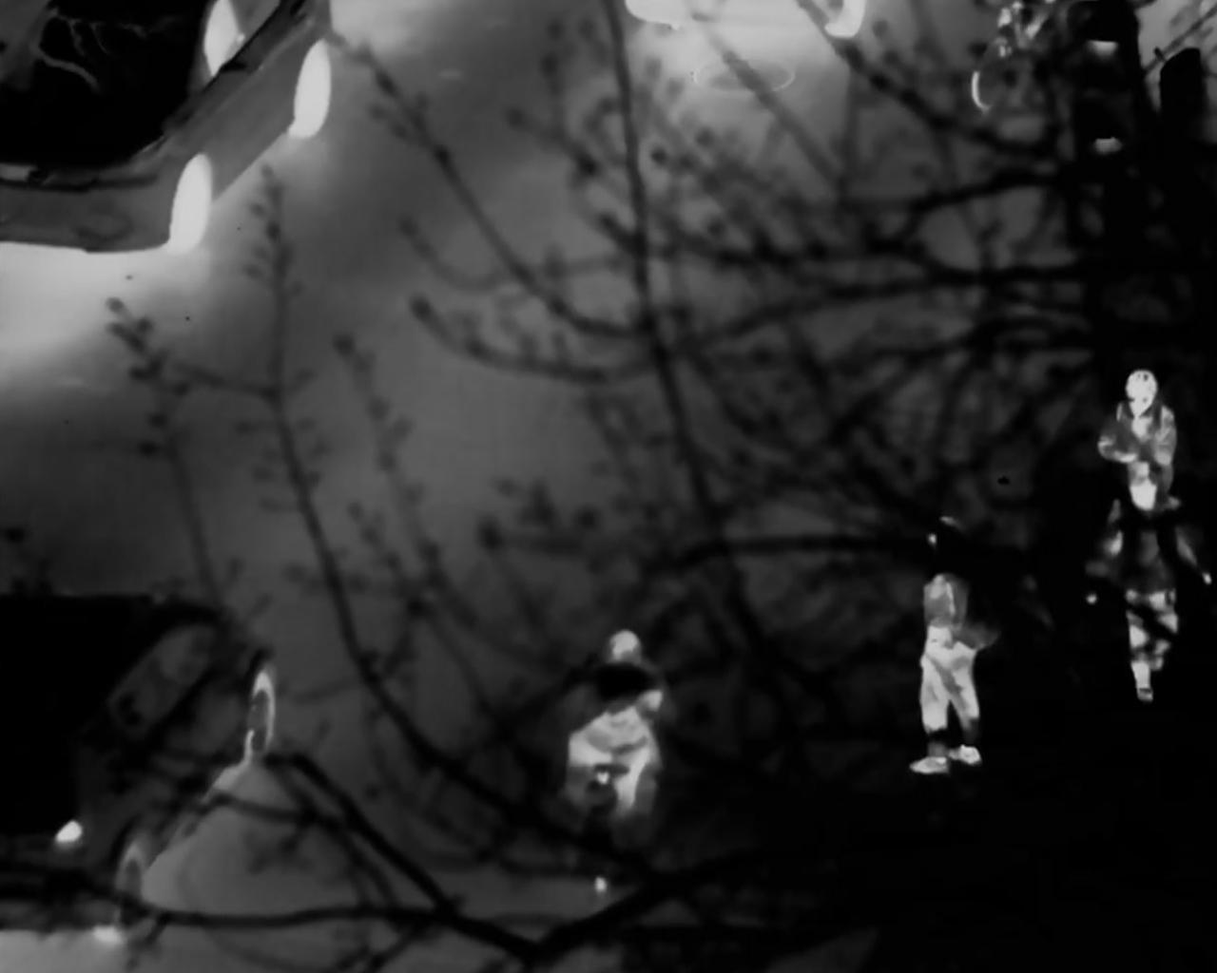person: (1075, 365, 1199, 625), (563, 628, 649, 830), (927, 515, 995, 767), (1113, 488, 1189, 707)
